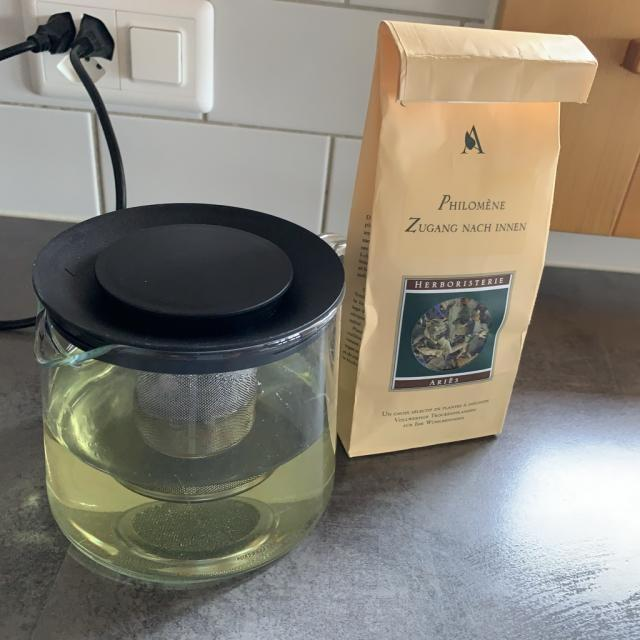water: (45, 358, 332, 570)
